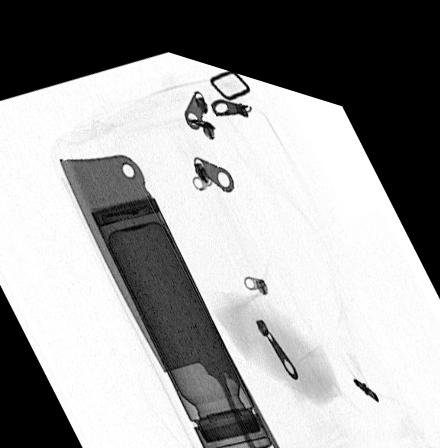Knife: (56, 143, 290, 448)
